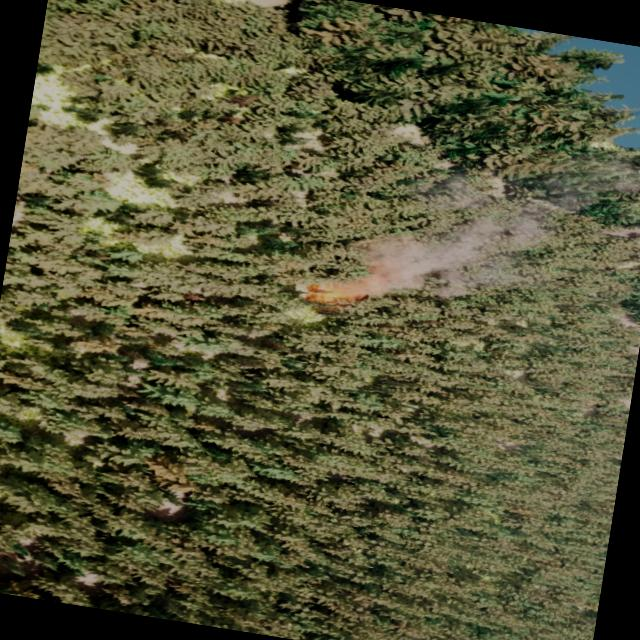fire: (291, 270, 367, 316)
smoke: (328, 133, 598, 334)
